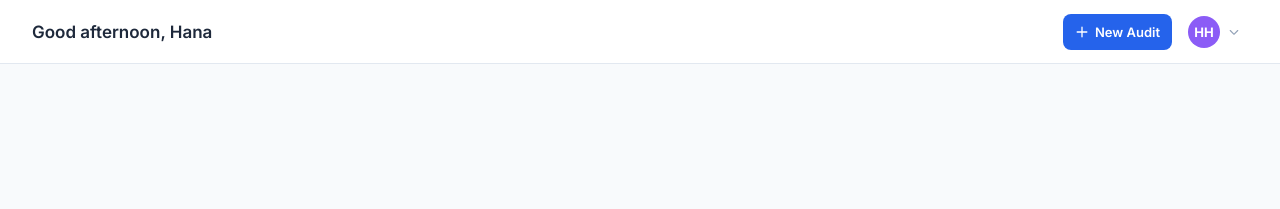
Scenario: Topbar › opens the account menu with the name and role, and closes it on Escape or an outside click
Later steps or results of the test are not shown.
Click the button with aria-label "Account menu for Hana Head" at (1216, 32), box [1184, 12, 1248, 52]
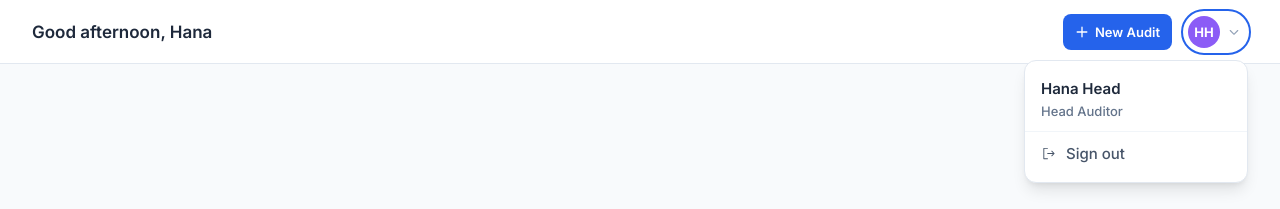
Result: the button with aria-label "Account menu for Hana Head" is expanded at [1184, 12, 1248, 52]
Result: the menu shows "Hana Head" at [1041, 78, 1120, 98]
Result: the menu shows "head auditor" at [1041, 102, 1123, 118]
Press the mouse on the menu at (1136, 121), box [1024, 60, 1248, 182]
Result: the button with aria-label "Account menu for Hana Head" is expanded at [1184, 12, 1248, 52]
